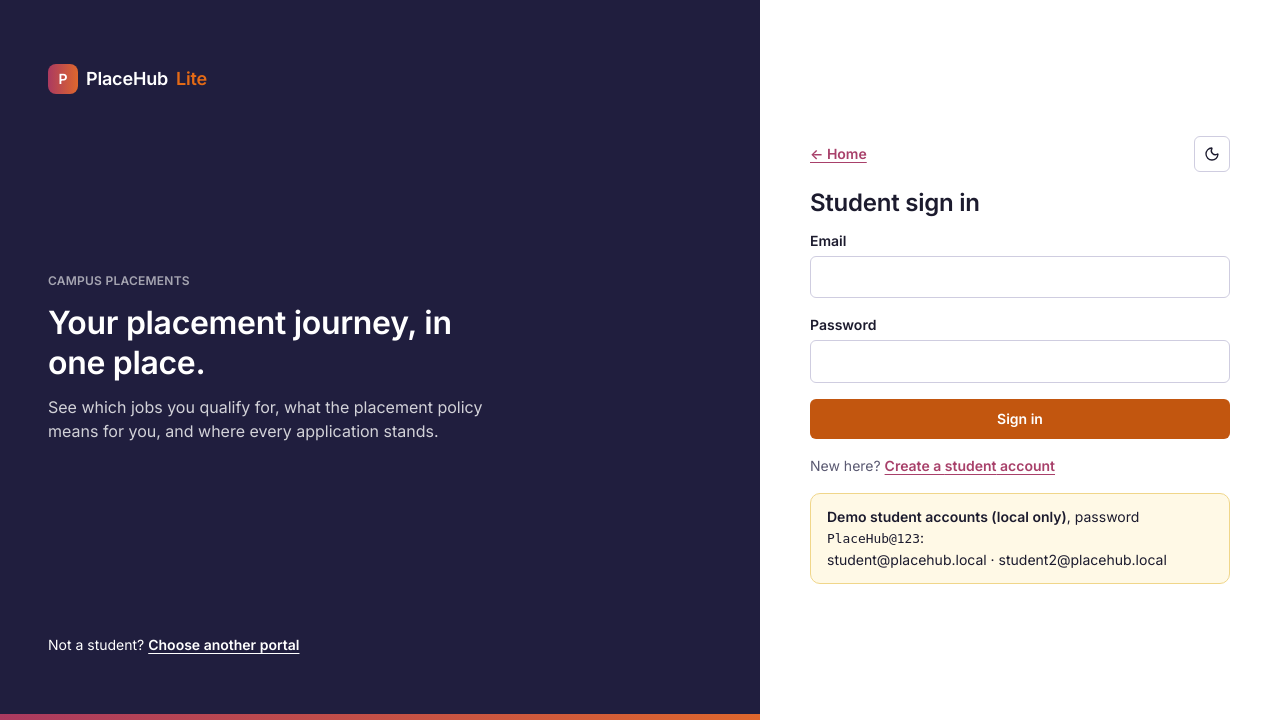
Test case: Login form validation › rejects a malformed email
Step 1. Type "not-an-email" into the field labelled "Email" → (1020, 277), box top-left (810, 256), bottom-right (1230, 298)
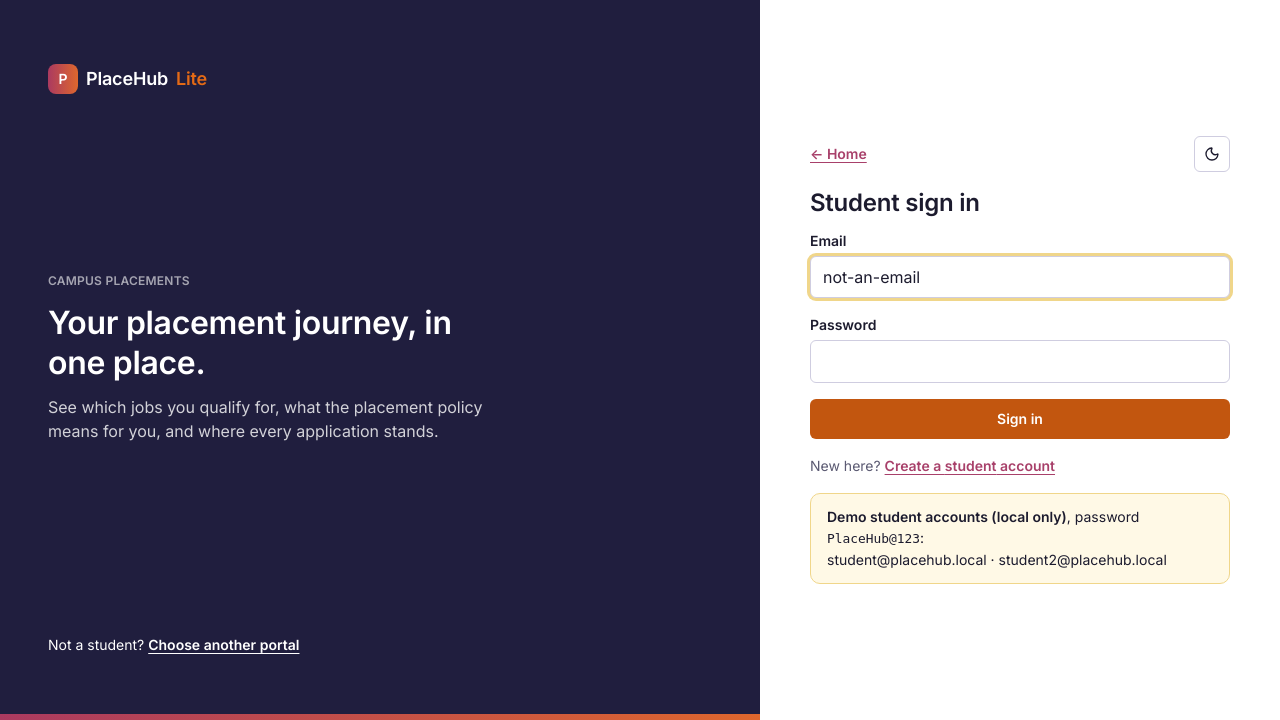
Step 2. Type "Secret123" into the password field labelled "Password" → (1020, 362), box top-left (810, 340), bottom-right (1230, 383)
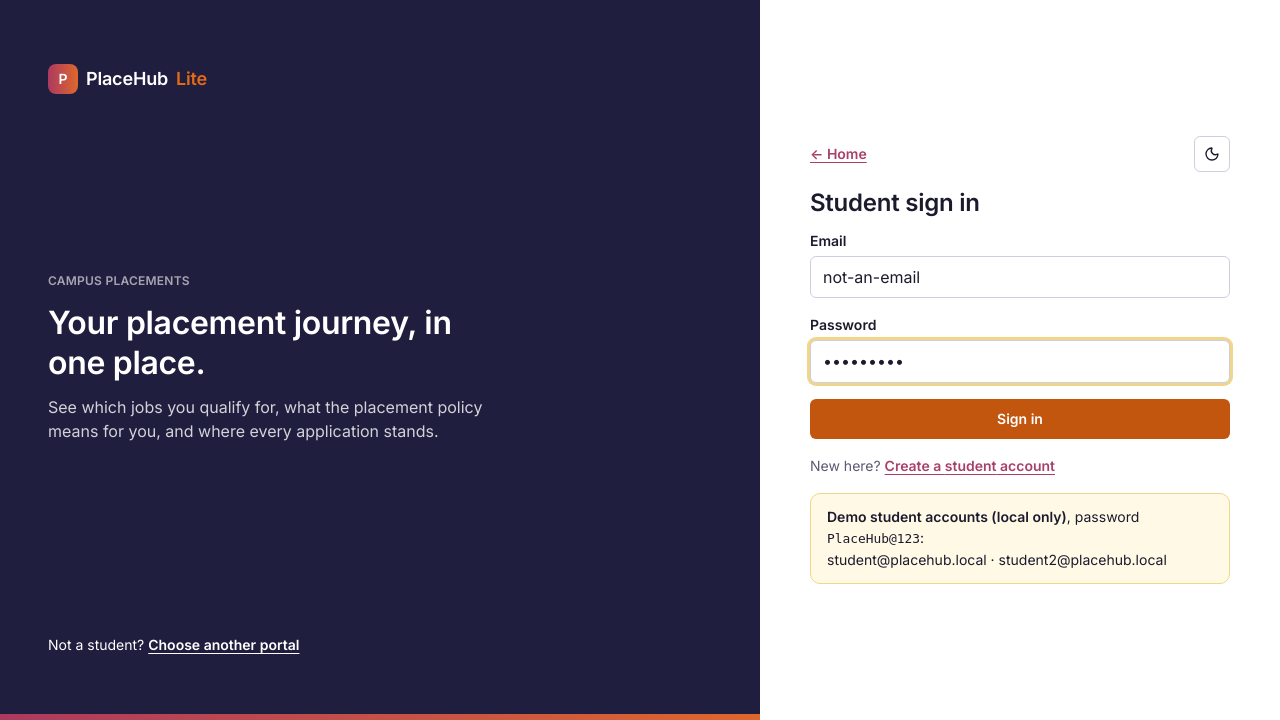
Step 3. Click the button "Sign in" → (1020, 419), box top-left (810, 399), bottom-right (1230, 439)
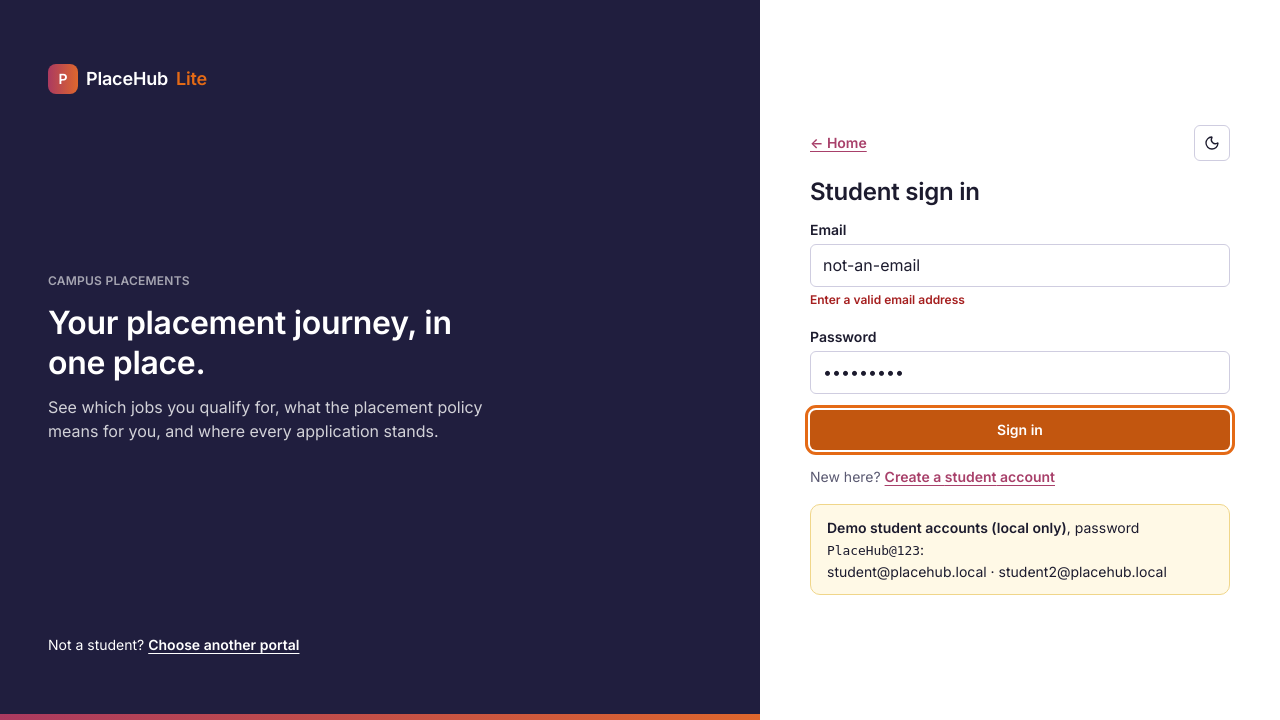
Expected: the text "Enter a valid email address" is shown, top-left (810, 292), bottom-right (965, 307)
